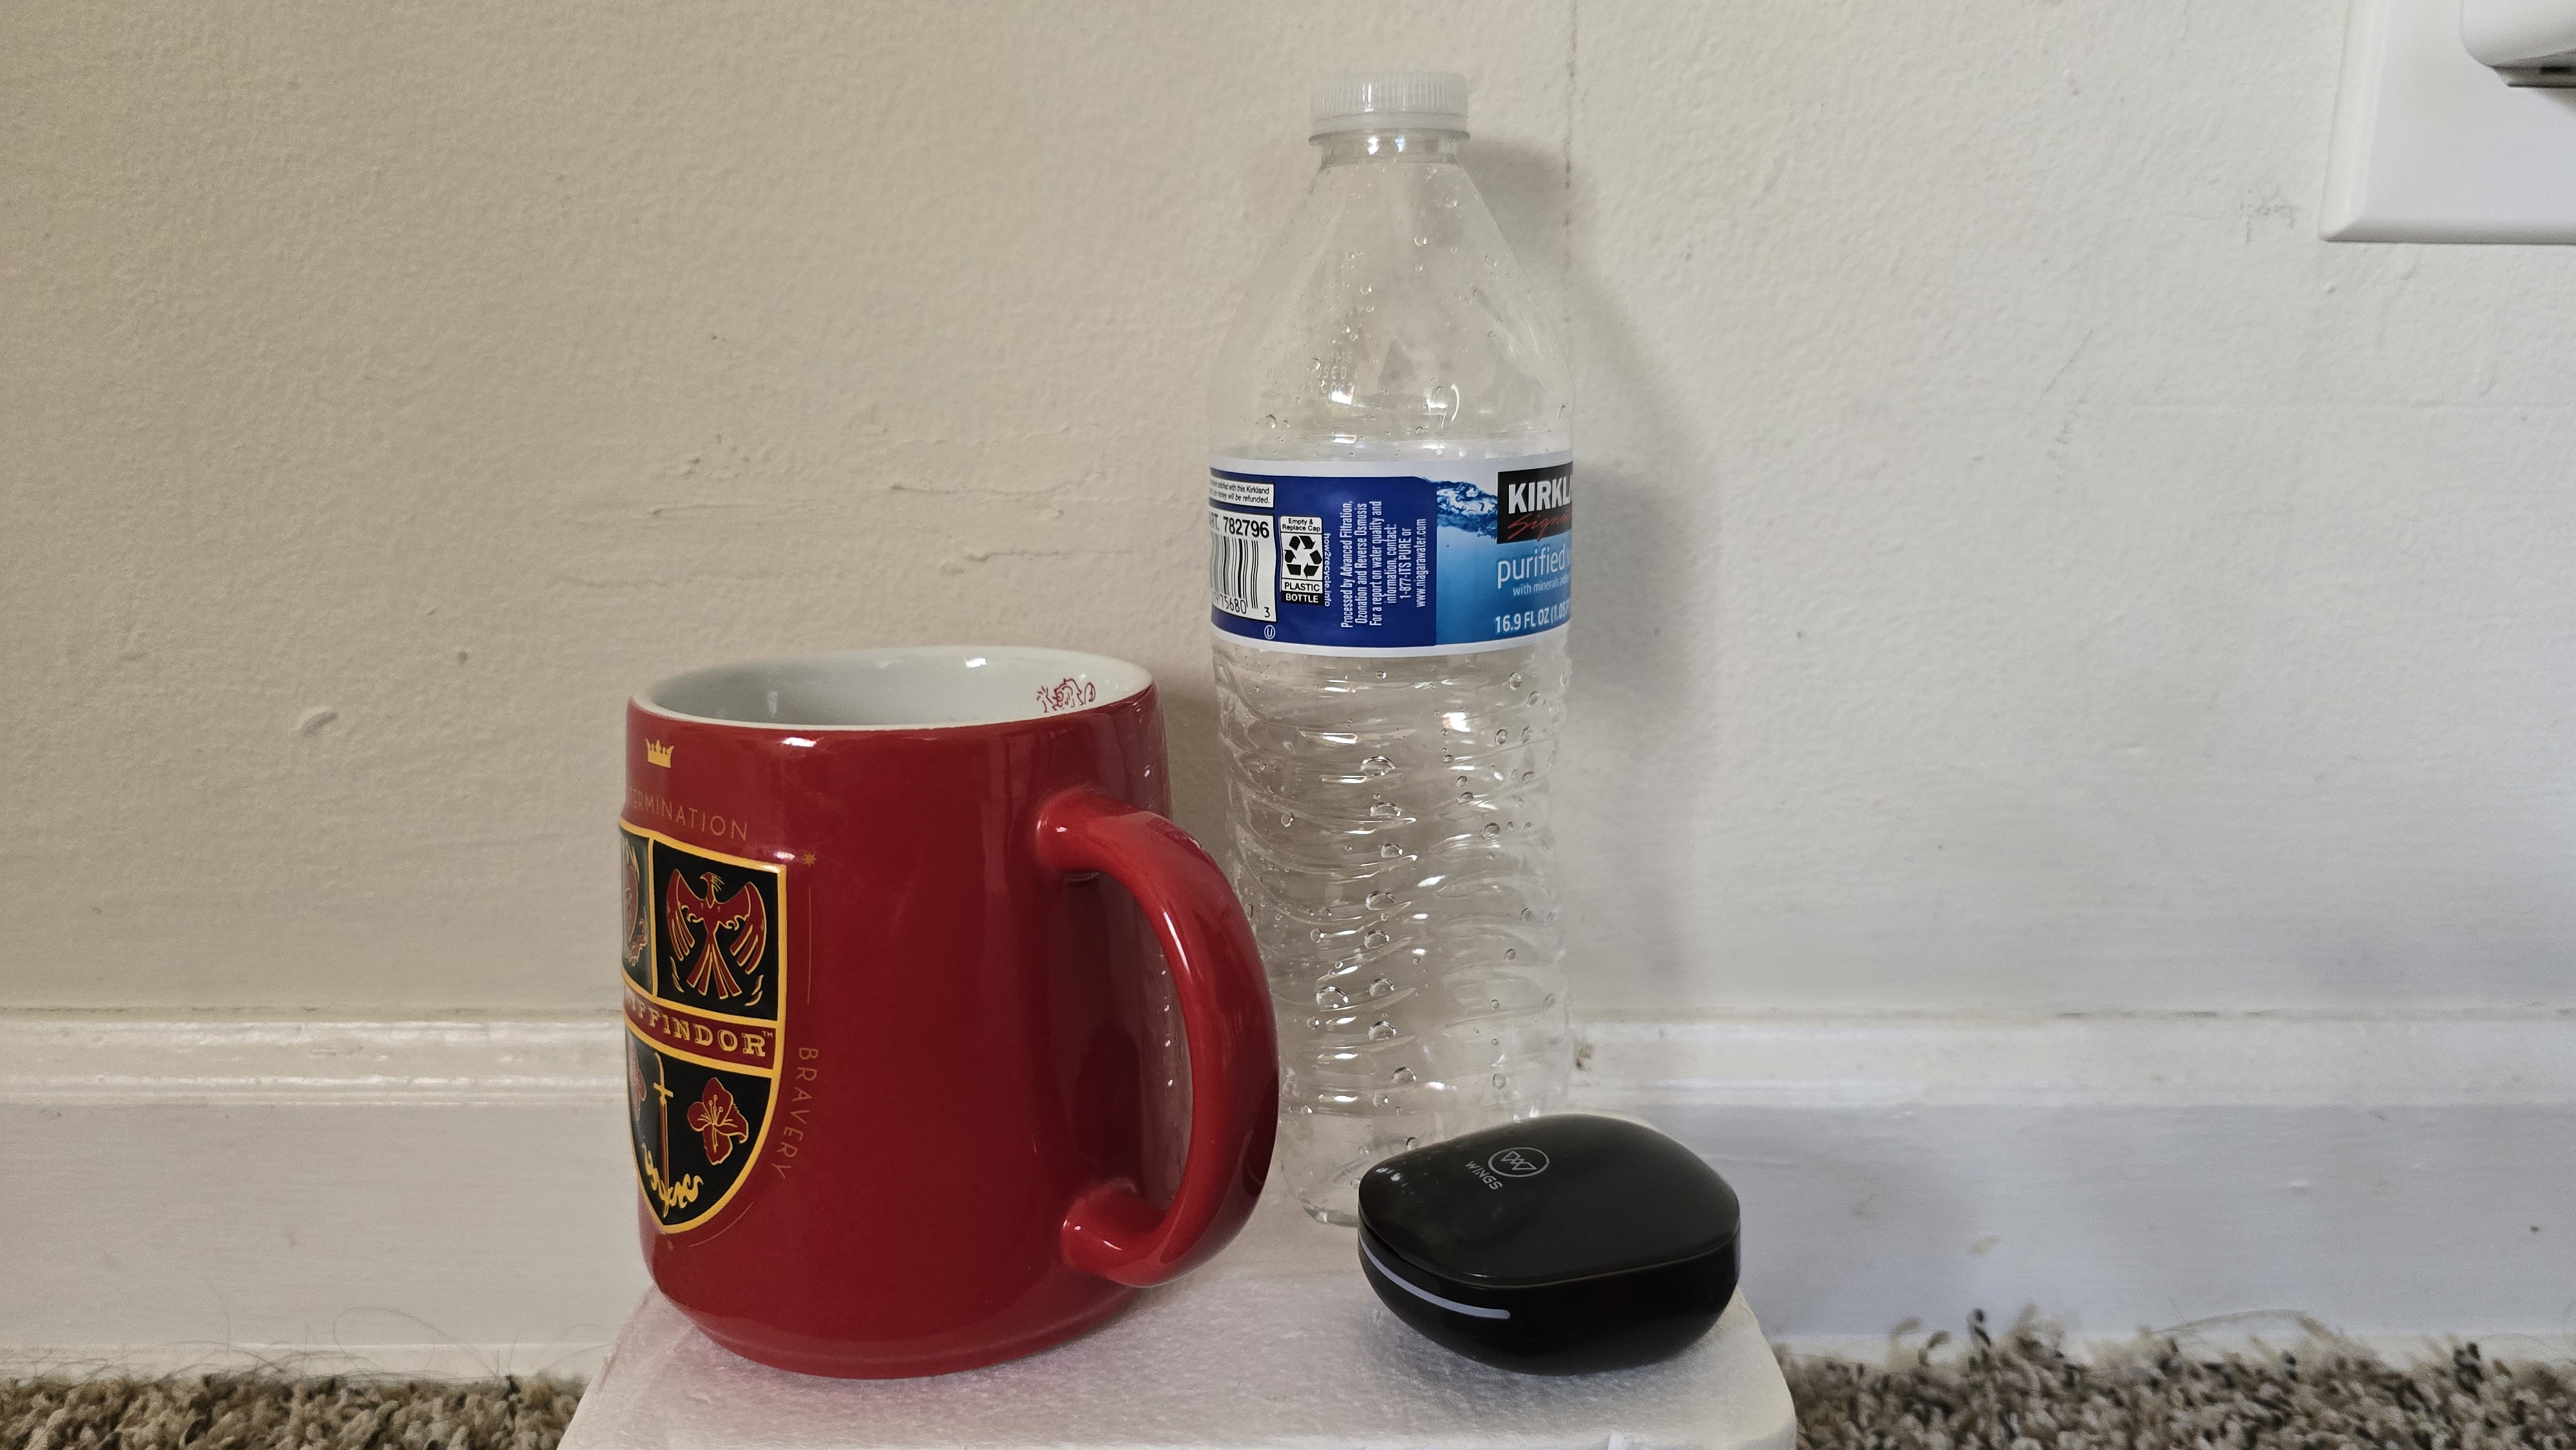bottle: (1152, 23, 1638, 1142)
mug: (556, 562, 1284, 1397)
